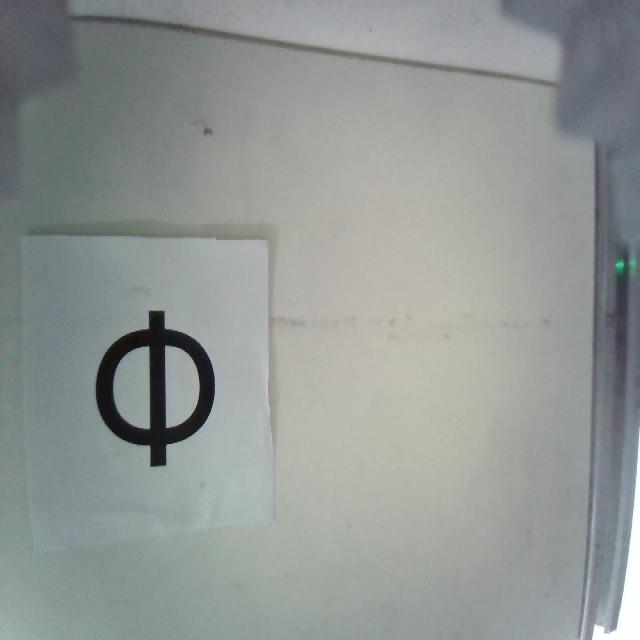F: (94, 312, 216, 464)
